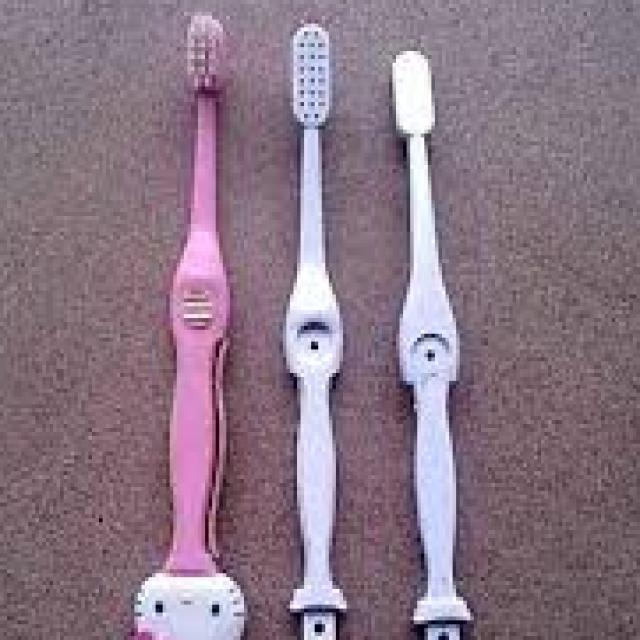organic: (368, 39, 525, 620), (261, 18, 389, 627), (140, 10, 255, 621)
